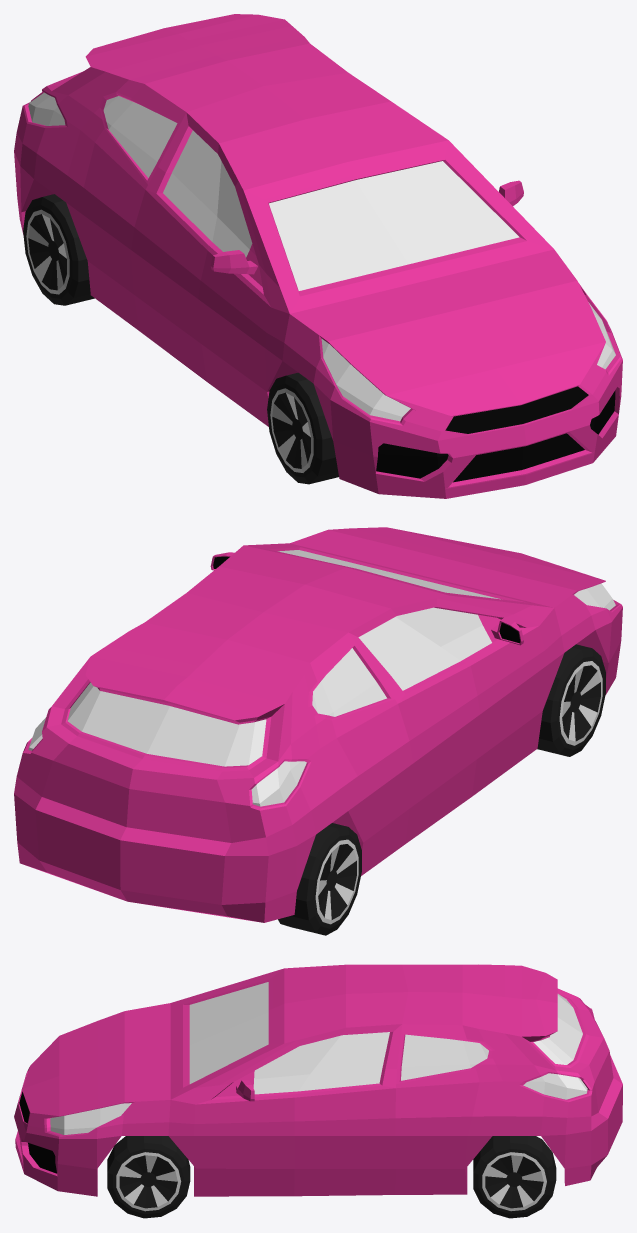
The model's file is 2pink.fbx.
The picture shows the model from 3 angles, top to bottom: view 1: azimuth 30°, elevation 25°; view 2: azimuth 150°, elevation 25°; view 3: azimuth 270°, elevation 25°; orthographic projection. The views are drawn at different scales.
Parts seen in each view (by area): view 1: Cube; view 2: Cube; view 3: Cube.
Boxes of the visible parts, x1=… form: Cube: x1=14, y1=14, x2=622, y2=498; Cube: x1=14, y1=527, x2=622, y2=935; Cube: x1=14, y1=964, x2=622, y2=1218.
Size of the model in its own units: 134 by 95.91 by 303.
